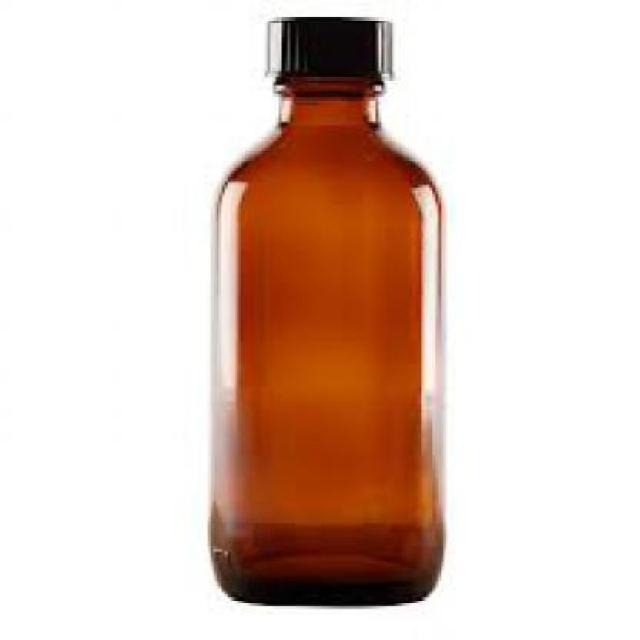kaca: (208, 74, 442, 603)
